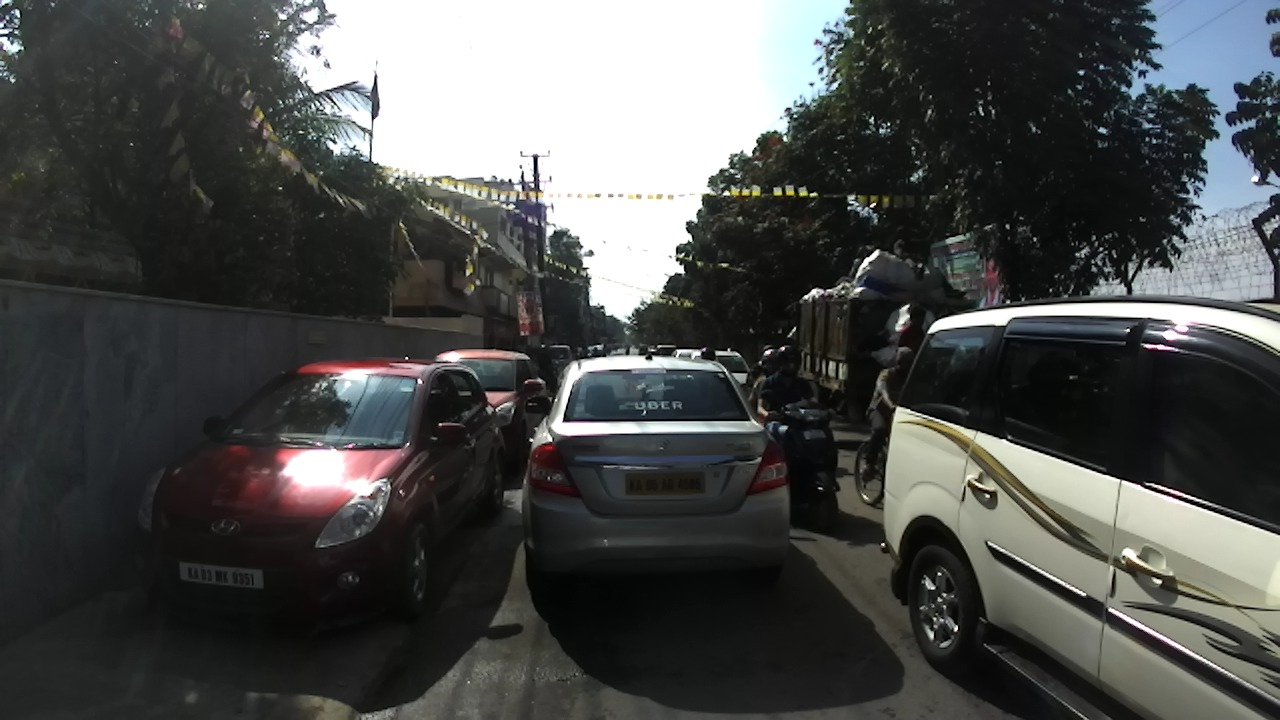autorickshaw: (655, 342, 676, 357)
bicycle: (855, 407, 895, 506)
car: (880, 296, 1280, 720), (136, 356, 504, 620), (523, 355, 791, 613), (435, 349, 552, 475), (691, 351, 752, 387), (542, 344, 574, 378), (672, 348, 695, 360), (587, 344, 606, 357), (647, 347, 657, 355)
motorcycle: (761, 390, 843, 532), (536, 361, 563, 396), (576, 352, 581, 360)
rider: (756, 345, 827, 448), (862, 348, 915, 484), (749, 347, 783, 412), (746, 342, 776, 402), (895, 224, 926, 281), (897, 305, 929, 360), (537, 340, 558, 394), (850, 245, 868, 279), (701, 346, 718, 361), (574, 343, 583, 358), (592, 345, 601, 357), (581, 347, 589, 359)
vehicle fallback: (786, 250, 996, 423), (638, 342, 649, 357), (623, 344, 631, 356)
